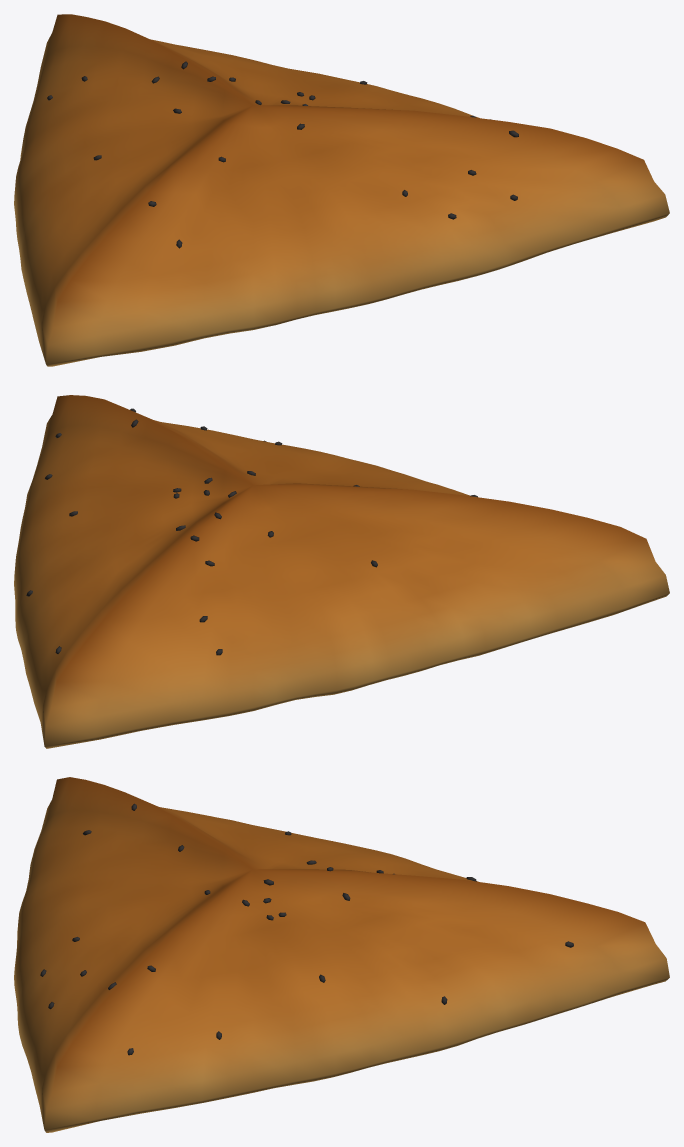
The model's file is fatayer.glb.
3 renders of one model, top to bottom at view 1: azimuth 30°, elevation 25°; view 2: azimuth 150°, elevation 25°; view 3: azimuth 270°, elevation 25°, orthographic.
Parts seen in each view (by area): view 1: fatayer; view 2: fatayer; view 3: fatayer.
Boxes of the visible parts, <box> form: fatayer: <box>14,14,669,366</box>; fatayer: <box>14,395,669,748</box>; fatayer: <box>14,777,669,1132</box>.
Bounding box in the file's own units: 0.1404 × 0.0296 × 0.1277.
